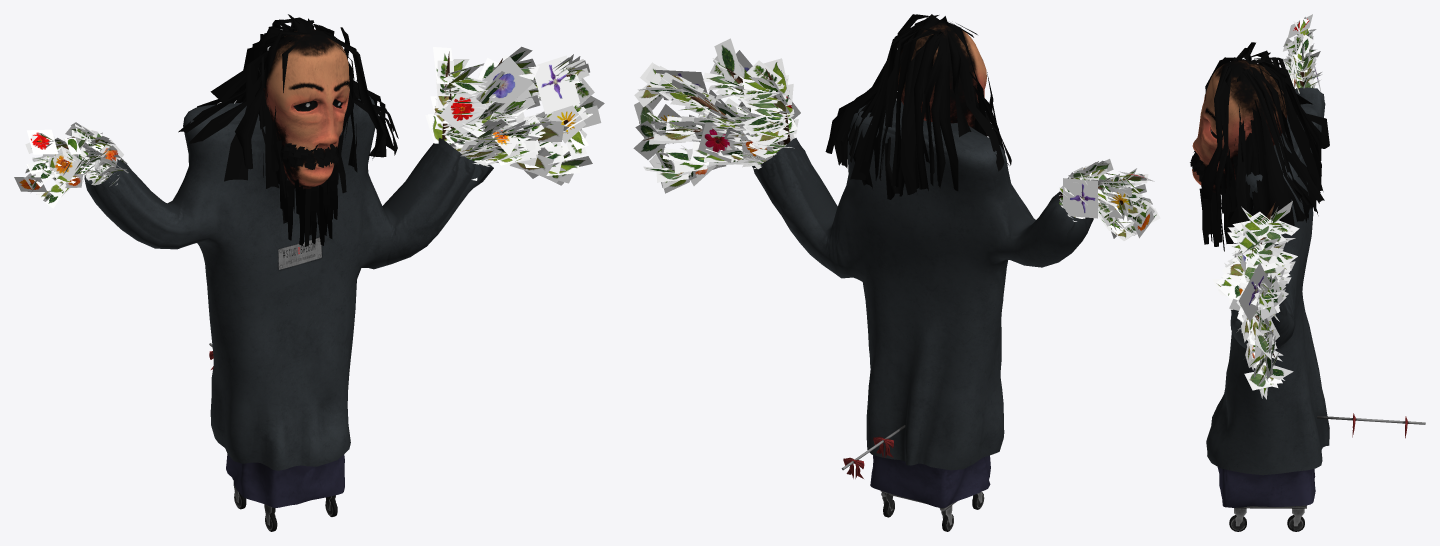
The model's file is rolling_giant.glb.
The picture shows the model from 3 angles, left to right: view 1: azimuth 30°, elevation 25°; view 2: azimuth 150°, elevation 25°; view 3: azimuth 270°, elevation 25°; orthographic projection. The views are drawn at different scales.
Visible parts, largest first — view 1: Giant; view 2: Giant; view 3: Giant.
Part boxes in pixels (x1,y1,x2,y2): Giant: (14, 14, 604, 531); Giant: (633, 14, 1160, 531); Giant: (1190, 14, 1425, 531).
Size of the model in its own units: 5.21 by 4.47 by 2.02.
4 materials, 3 textured.
